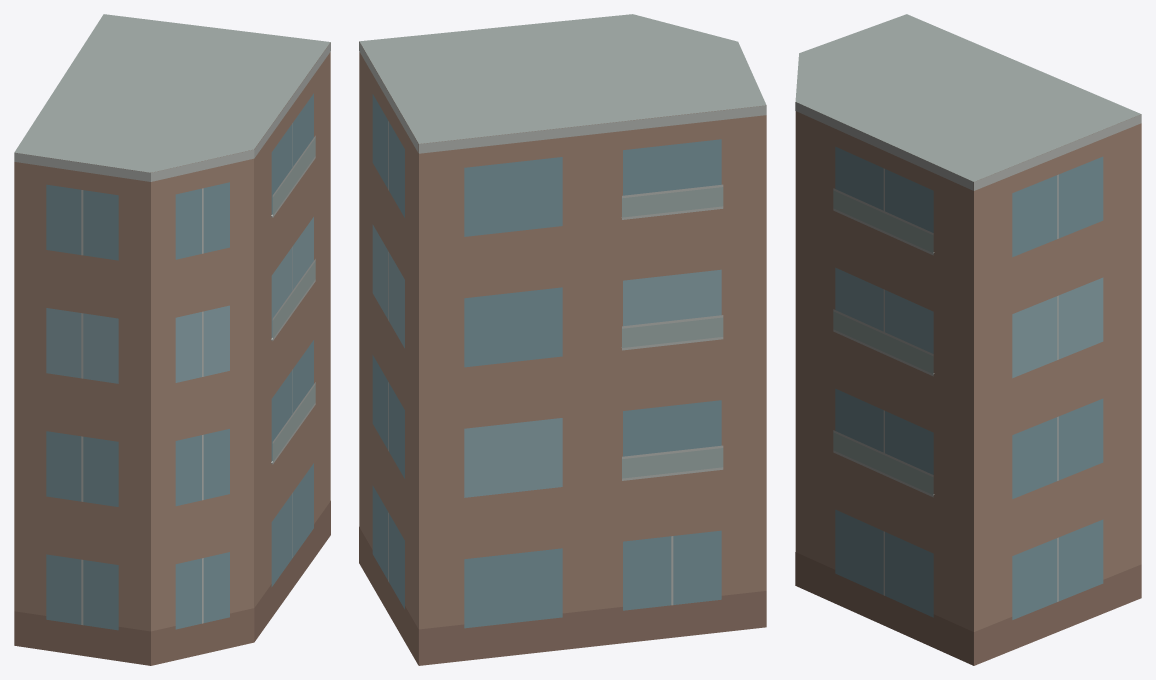
The model's file is survey-upis-32730447.glb.
The picture shows the model from 3 angles, left to right: view 1: azimuth 30°, elevation 25°; view 2: azimuth 150°, elevation 25°; view 3: azimuth 270°, elevation 25°; orthographic projection. The views are drawn at different scales.
Visible parts, largest first — view 1: survey-upis-32730447.tmp; view 2: survey-upis-32730447.tmp; view 3: survey-upis-32730447.tmp.
Part boxes in pixels (x1,y1,x2,y2): survey-upis-32730447.tmp: [14, 14, 330, 665]; survey-upis-32730447.tmp: [359, 14, 766, 665]; survey-upis-32730447.tmp: [795, 14, 1141, 665].
Size of the model in its own units: 9.68 by 13 by 8.44.
